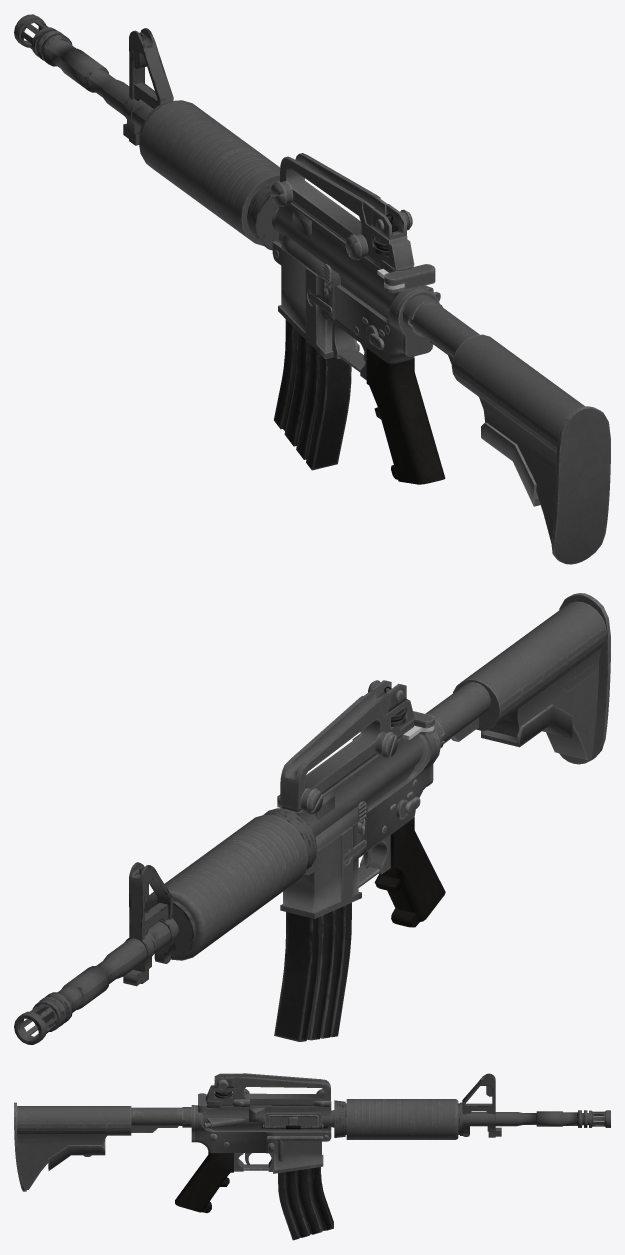
3 views of the same model, one above another, from view 1: azimuth 30°, elevation 25°; view 2: azimuth 150°, elevation 25°; view 3: azimuth 270°, elevation 25° (orthographic). The views are drawn at different scales.
Visible parts, largest first — view 1: Body, Magazine; view 2: Body, Magazine; view 3: Body, Magazine.
Part boxes in pixels (x1=…): Body: x1=14, y1=14, x2=610, y2=564; Magazine: x1=274, y1=319, x2=351, y2=470; Body: x1=14, y1=593, x2=610, y2=1044; Magazine: x1=274, y1=902, x2=351, y2=1041; Body: x1=14, y1=1073, x2=610, y2=1213; Magazine: x1=278, y1=1167, x2=333, y2=1240.
Size of the model in its own units: 0.059 by 0.2515 by 0.84.
Materials: 1 (1 with a texture image).
